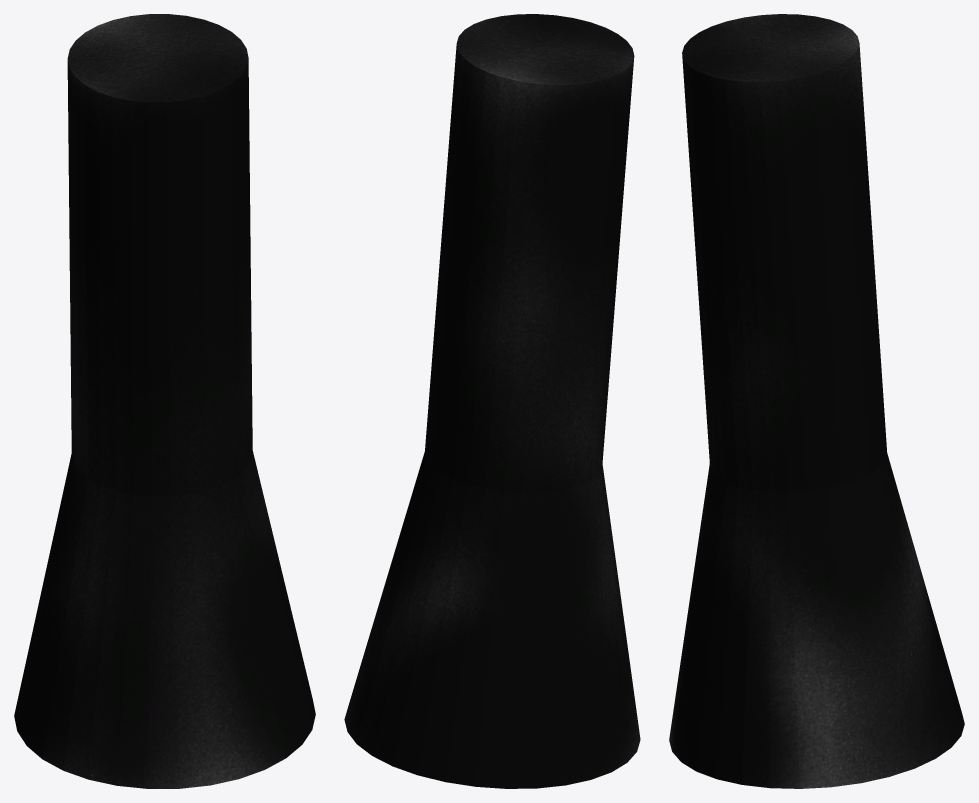
Rendered from carousel-middle.fbx.
The picture shows the model from 3 angles, left to right: view 1: azimuth 30°, elevation 25°; view 2: azimuth 150°, elevation 25°; view 3: azimuth 270°, elevation 25°; orthographic projection.
Visible parts, largest first — view 1: node_id3; view 2: node_id3; view 3: node_id3.
Part boxes in pixels (box(x1,y1,x2,y2)): node_id3: box(14, 14, 315, 788); node_id3: box(344, 14, 640, 788); node_id3: box(669, 14, 964, 788).
Size of the model in its own units: 0.2036 by 0.5232 by 0.2044.
1 material, 1 textured.
